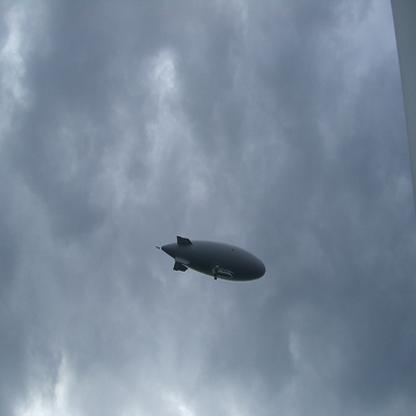Airship: (155, 235, 270, 284)
